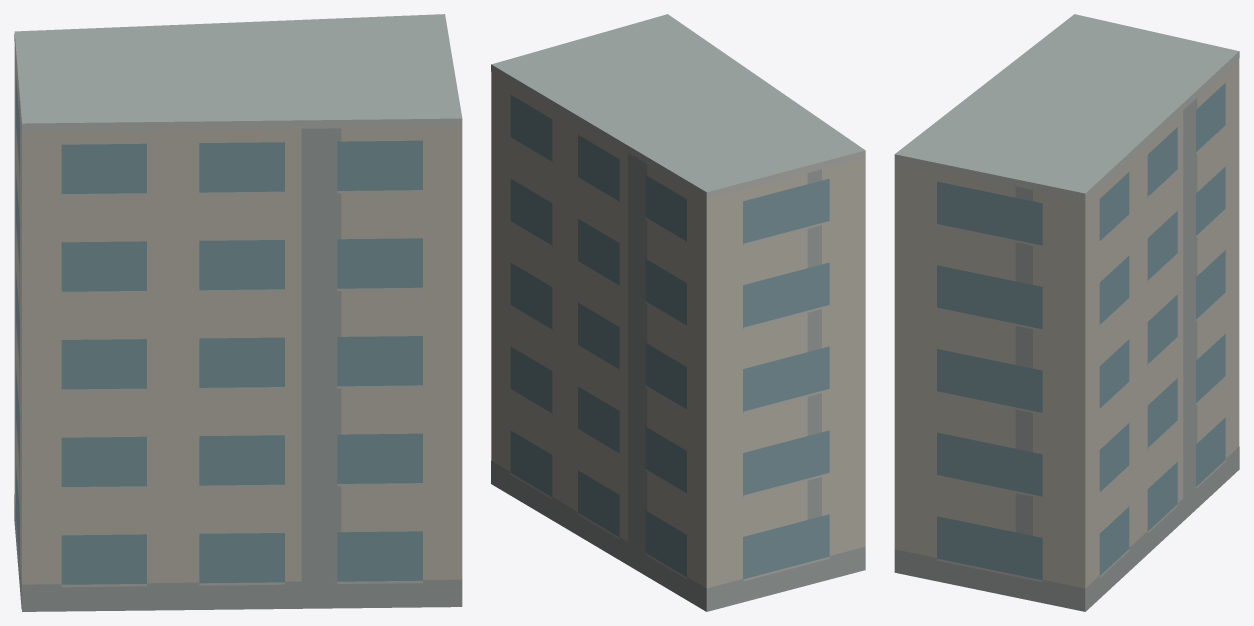
The model's file is survey-upis-32727007.glb.
3 renders of one model, left to right at view 1: azimuth 30°, elevation 25°; view 2: azimuth 150°, elevation 25°; view 3: azimuth 270°, elevation 25°, orthographic. The views are drawn at different scales.
Parts seen in each view (by area): view 1: survey-upis-32727007.tmp; view 2: survey-upis-32727007.tmp; view 3: survey-upis-32727007.tmp.
Part boxes in pixels (x1,y1,x2,y2): survey-upis-32727007.tmp: [14, 14, 462, 611]; survey-upis-32727007.tmp: [491, 14, 865, 611]; survey-upis-32727007.tmp: [894, 14, 1239, 611].
Bounding box in the file's own units: 12.99 × 14.1 × 10.54.
